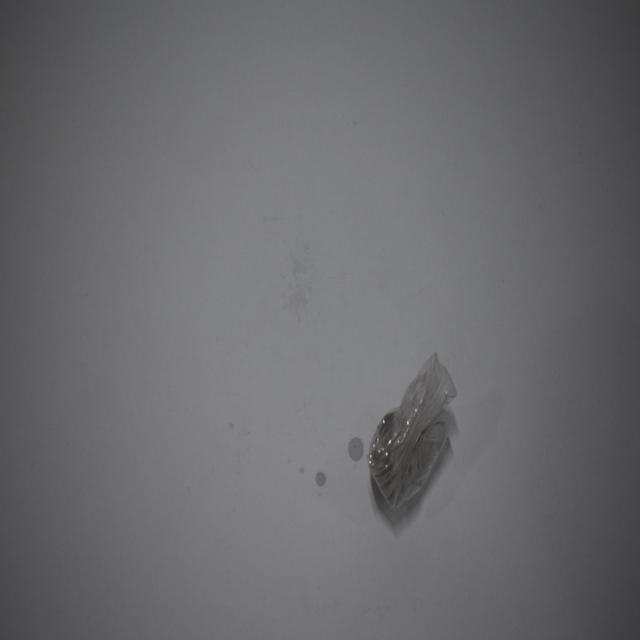bottle: (364, 348, 458, 534)
